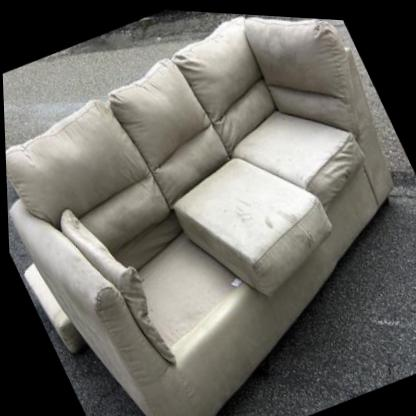Carpet: (210, 175, 416, 416)
Sofa: (0, 0, 416, 416)
